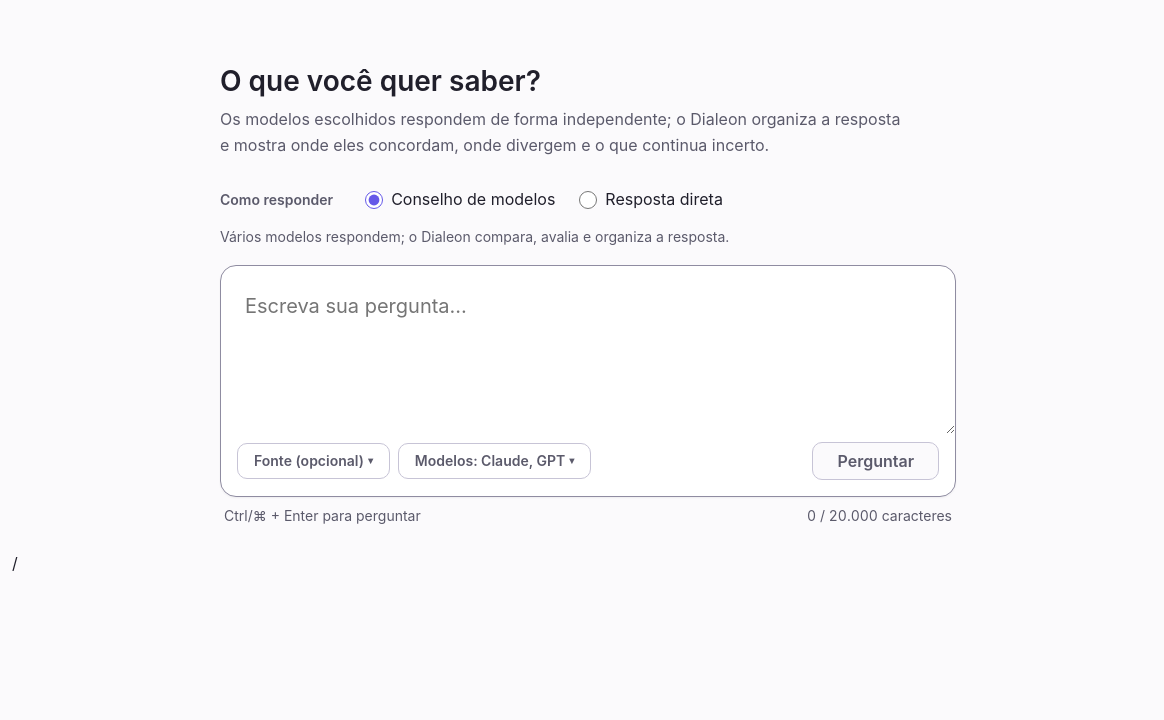
Home -- envio de uma resposta direta › envia exatamente {question, enabled_providers: [um], source_text: null, kind: "direct"} e abre a run
The width and height of the screenshot is (1164, 720).
Expected: the button "Modelos: Claude, GPT ▾" is shown, [398,443,591,479]
Step 1. Click the radio button labelled "Resposta direta" → (588, 200), box [579,191,597,209]
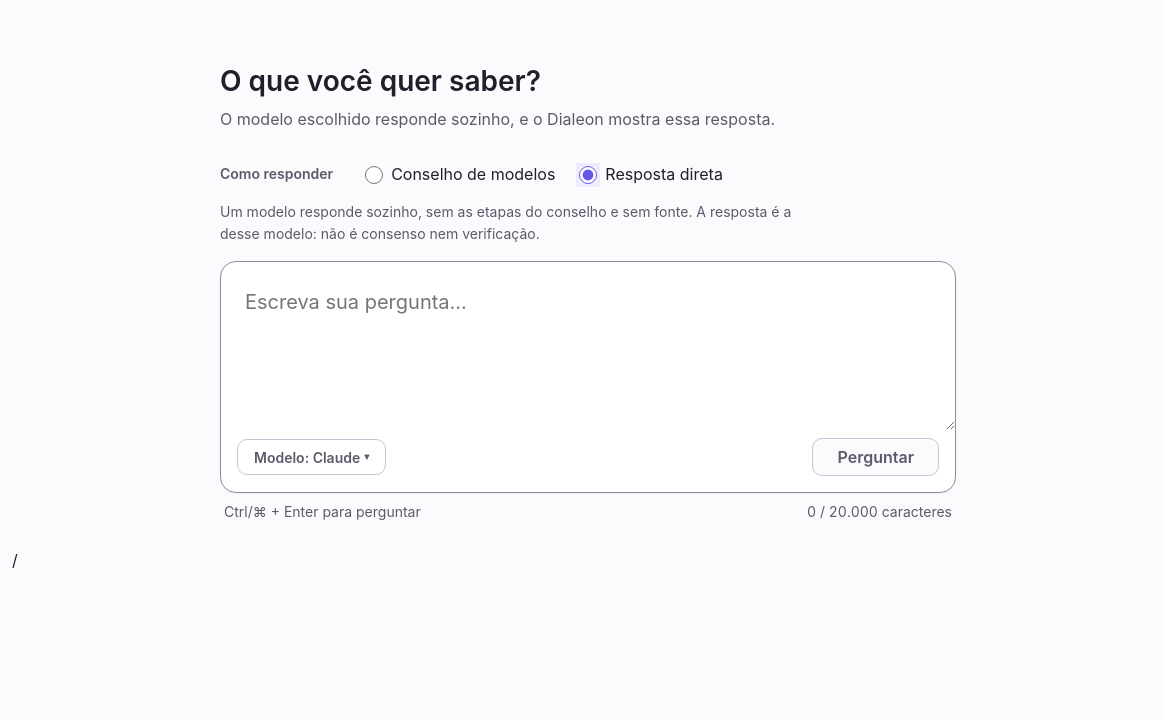
Step 2. Type "Qual a capital do Brasil?" into the text box named "faça uma pergunta" → (588, 346), box [221,262,955,430]
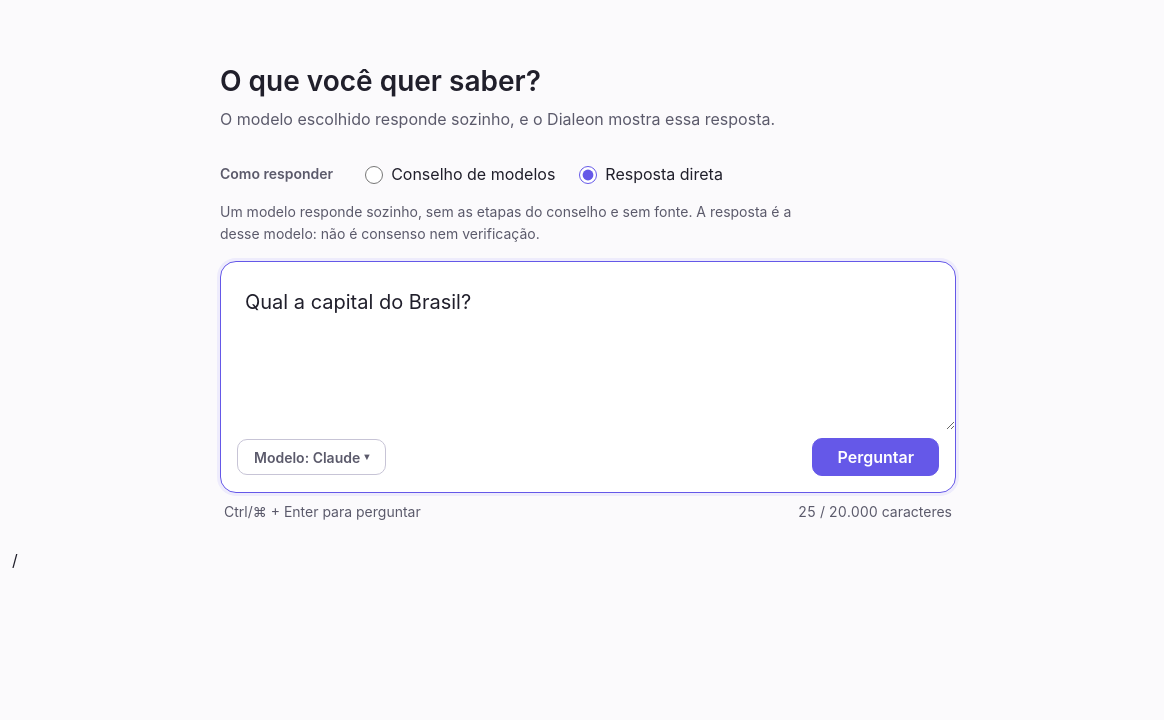
Step 3. Click the button "Perguntar" → (876, 457), box [812,438,939,476]
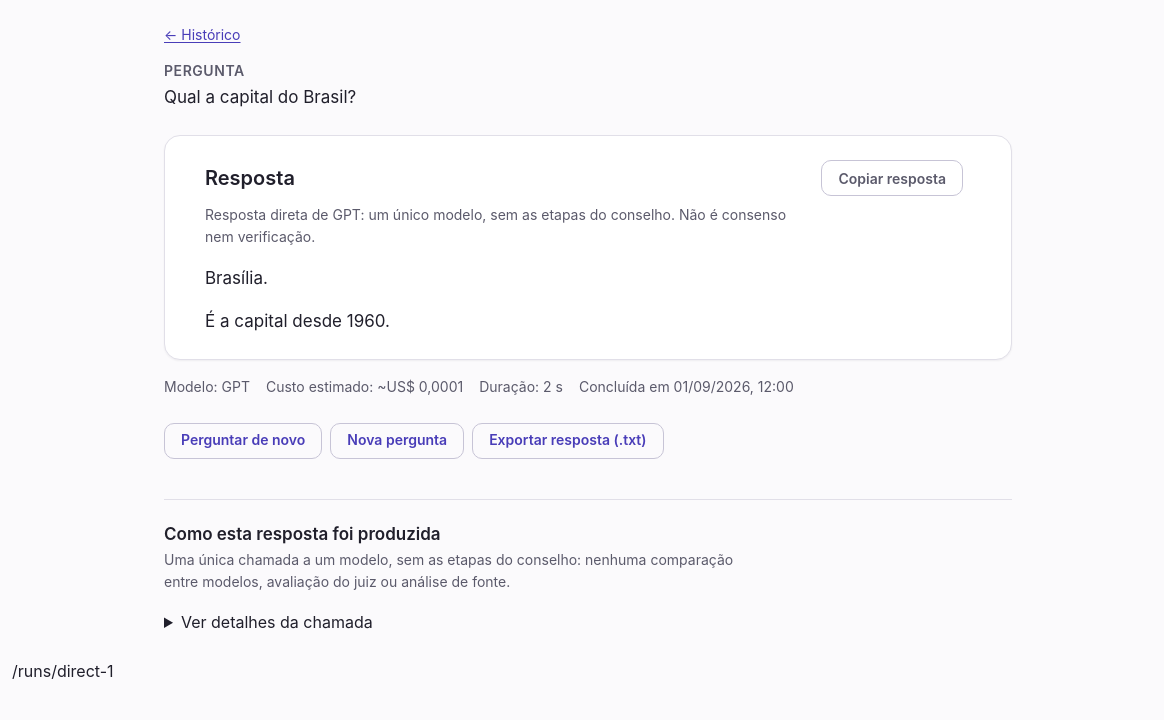
Now the text with test id "location" reads "/runs/direct-1", box [12,661,114,681]
Now the text "Brasília." is shown, box [205,268,268,288]
